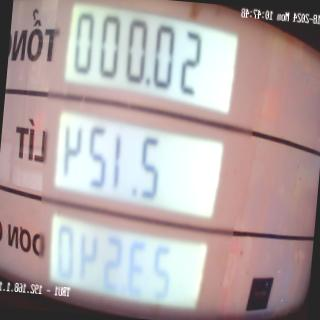screen: (35, 0, 255, 320)
